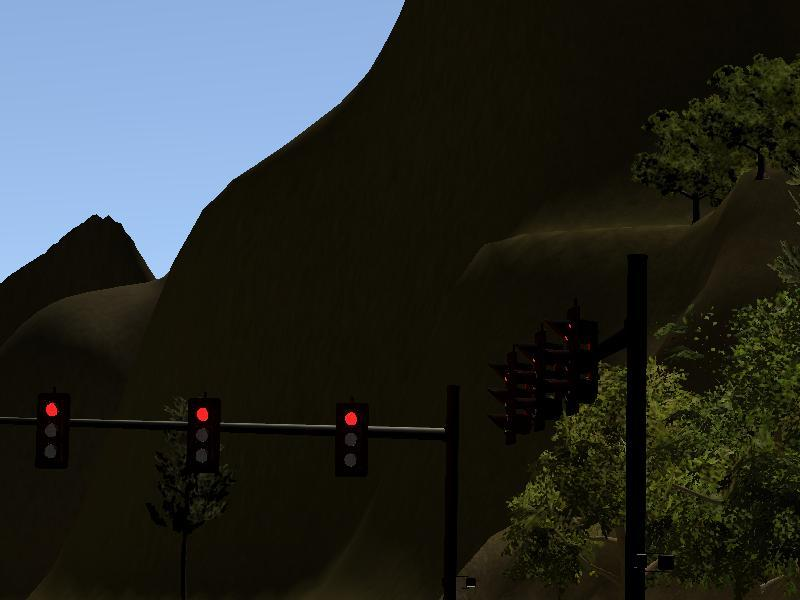Red: (188, 398, 219, 475), (337, 403, 365, 477), (41, 399, 67, 464)
